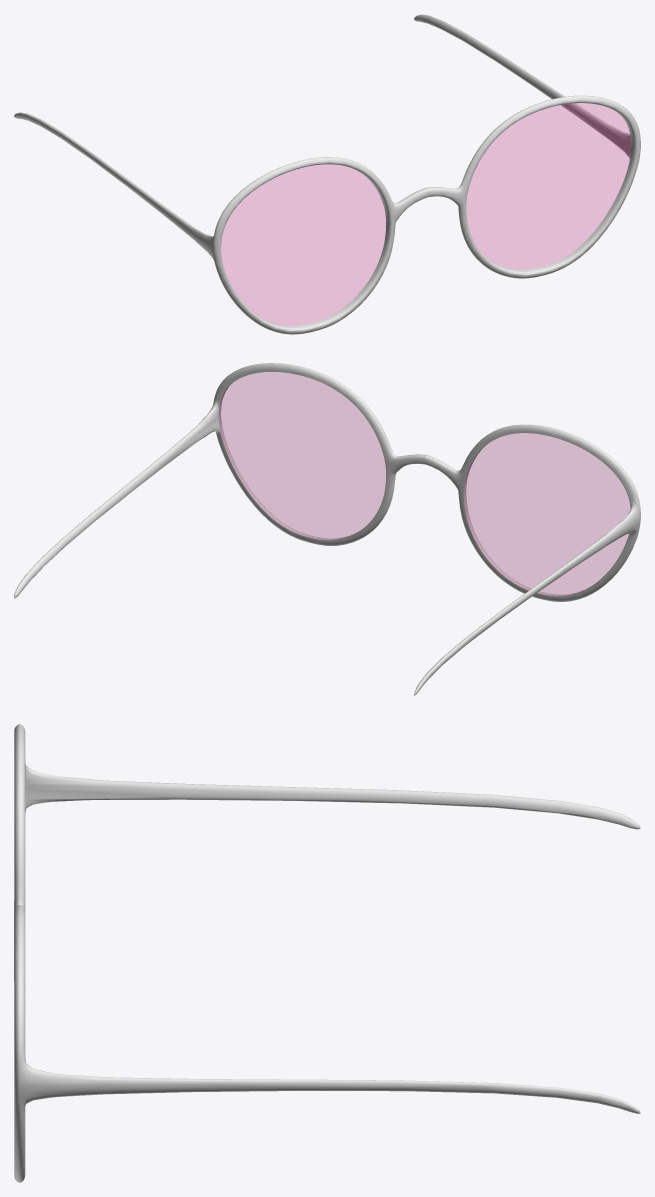
Rendered from eyewear-glasses-002-82ebb390.glb.
3 renders of one model, top to bottom at view 1: azimuth 30°, elevation 25°; view 2: azimuth 150°, elevation 25°; view 3: azimuth 270°, elevation 25°, orthographic. The views are drawn at different scales.
Visible parts, largest first — view 1: Geo_Female_Black_Glasses.004; view 2: Geo_Female_Black_Glasses.004; view 3: Geo_Female_Black_Glasses.004.
Part boxes in pixels (box(x1,y1,x2,y2)): Geo_Female_Black_Glasses.004: box(14, 14, 640, 334); Geo_Female_Black_Glasses.004: box(14, 363, 640, 695); Geo_Female_Black_Glasses.004: box(14, 724, 640, 1182).
Bounding box in the file's own units: 1.55 × 0.6021 × 1.35.
